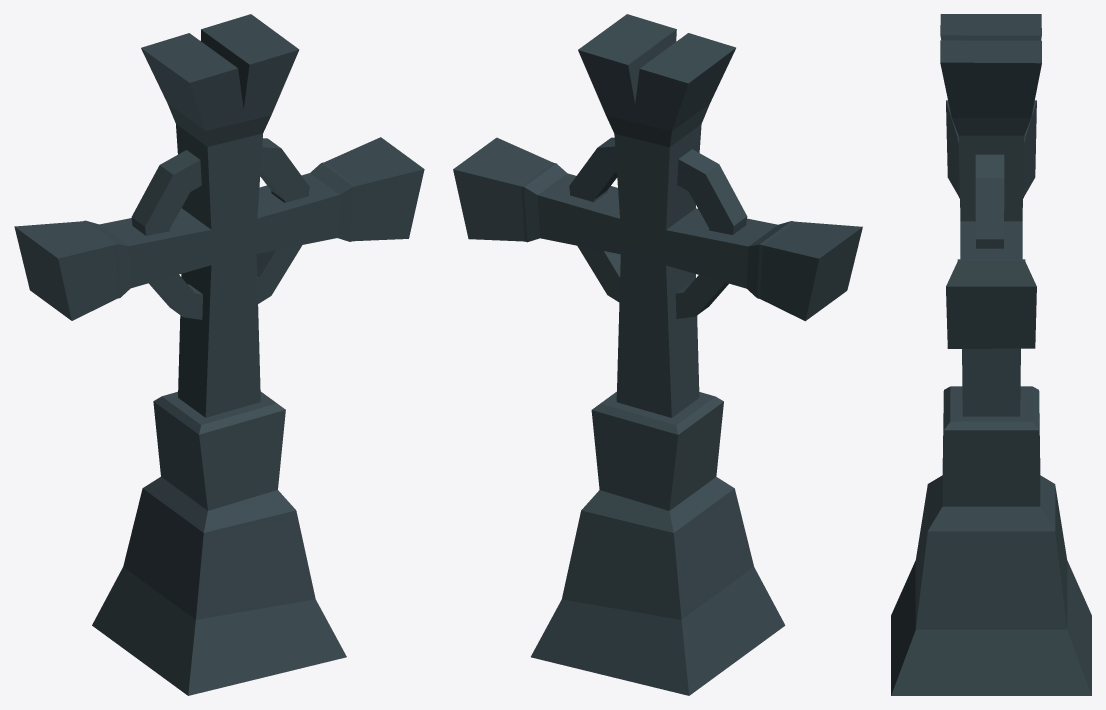
File: Cross_1.fbx
The picture shows the model from 3 angles, left to right: view 1: azimuth 30°, elevation 25°; view 2: azimuth 150°, elevation 25°; view 3: azimuth 270°, elevation 25°; orthographic projection. The views are drawn at different scales.
Visible parts, largest first — view 1: Cross_1; view 2: Cross_1; view 3: Cross_1.
Boxes of the visible parts, x1=… form: Cross_1: x1=14, y1=14, x2=424, y2=695; Cross_1: x1=453, y1=14, x2=862, y2=695; Cross_1: x1=891, y1=14, x2=1091, y2=695.
Bounding box in the file's own units: 323 × 502 × 147.
